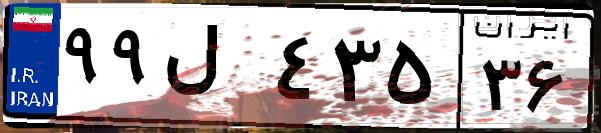3: (330, 28, 385, 110), (475, 38, 525, 113)
4: (270, 28, 330, 110)
5: (385, 28, 445, 110)
6: (525, 38, 570, 115)
9: (57, 26, 110, 100), (110, 28, 158, 98)
ل: (158, 20, 270, 120)
